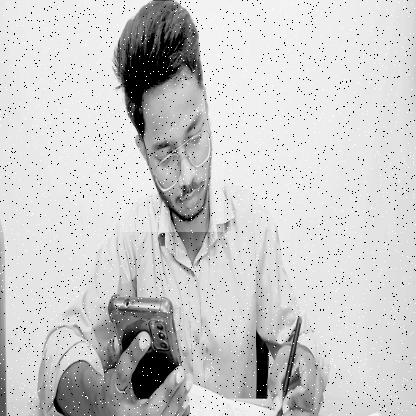Distracted: (120, 1, 224, 232)
